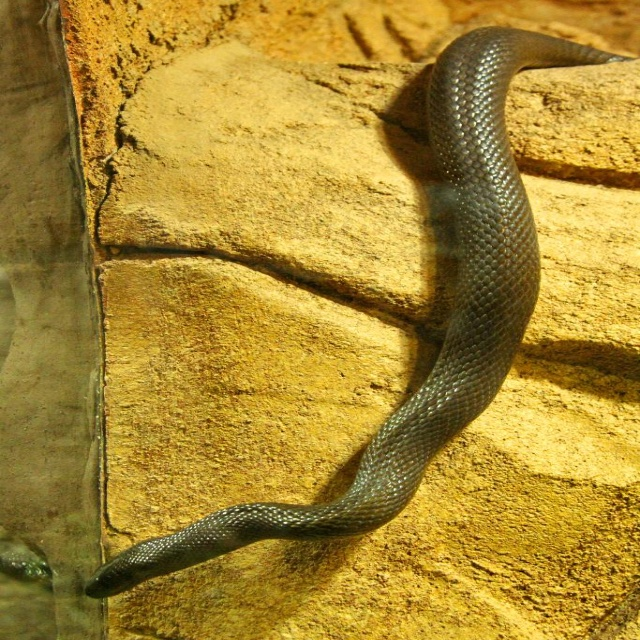Snake: (85, 27, 637, 600)
